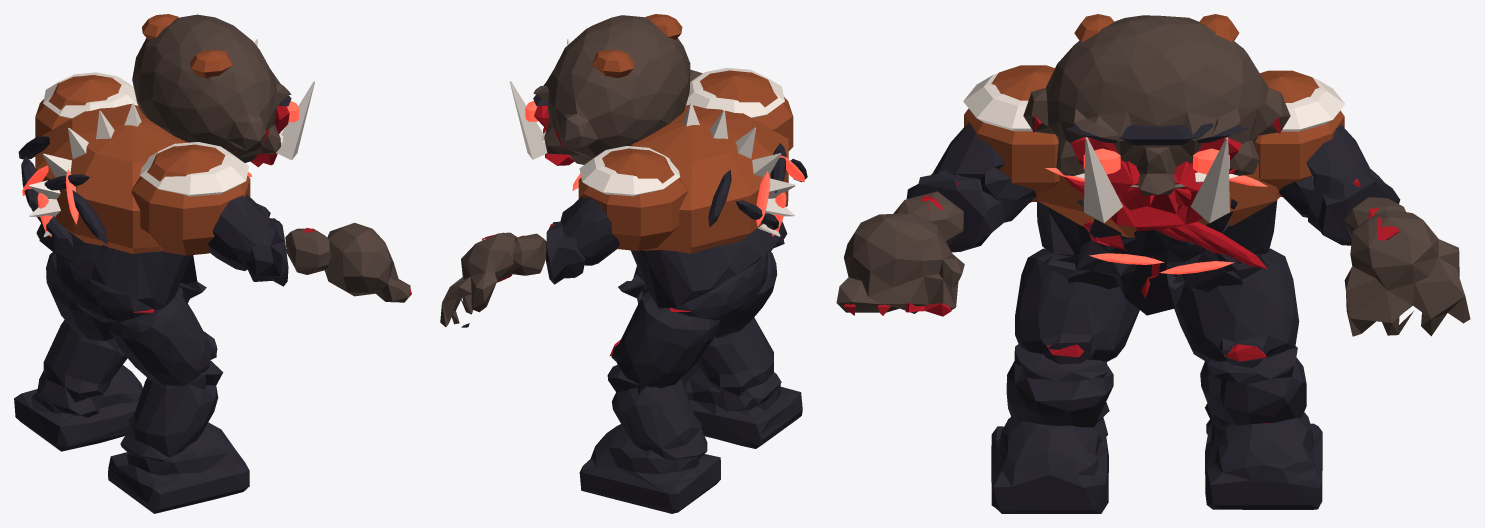
The picture shows the model from 3 angles, left to right: view 1: azimuth 30°, elevation 25°; view 2: azimuth 150°, elevation 25°; view 3: azimuth 270°, elevation 25°; orthographic projection. The views are drawn at different scales.
Parts seen in each view (by area): view 1: torso__mega, head__mega, footR__mega, legR__mega, shinR__mega, shinL__mega, footL__mega, handR__mega, foreArmR__mega, armR__mega, hip__mega, legL__mega; view 2: torso__mega, head__mega, footL__mega, legL__mega, shinL__mega, shinR__mega, footR__mega, handL__mega, foreArmL__mega, hip__mega, armL__mega, legR__mega; view 3: head__mega, torso__mega, handL__mega, footR__mega, handR__mega, footL__mega, legL__mega, legR__mega, shinR__mega, shinL__mega, foreArmR__mega, foreArmL__mega (+2 smaller).
Part boxes in pixels (left/top/right/bottom): torso__mega: left=18, top=72, right=251, bottom=309; head__mega: left=132, top=14, right=314, bottom=167; footR__mega: left=108, top=422, right=249, bottom=513; legR__mega: left=107, top=291, right=217, bottom=386; shinR__mega: left=120, top=360, right=223, bottom=461; shinL__mega: left=39, top=319, right=127, bottom=417; footL__mega: left=14, top=365, right=142, bottom=451; handR__mega: left=324, top=222, right=411, bottom=302; foreArmR__mega: left=245, top=218, right=330, bottom=286; armR__mega: left=207, top=194, right=270, bottom=270; hip__mega: left=56, top=254, right=152, bottom=323; legL__mega: left=46, top=252, right=113, bottom=340; torso__mega: left=572, top=68, right=807, bottom=308; head__mega: left=509, top=14, right=690, bottom=165; footL__mega: left=579, top=424, right=720, bottom=513; legL__mega: left=609, top=292, right=720, bottom=394; shinL__mega: left=607, top=365, right=707, bottom=460; shinR__mega: left=697, top=317, right=781, bottom=411; footR__mega: left=682, top=363, right=802, bottom=448; handL__mega: left=440, top=232, right=517, bottom=327; foreArmL__mega: left=510, top=221, right=585, bottom=284; hip__mega: left=672, top=253, right=767, bottom=321; armL__mega: left=560, top=196, right=619, bottom=265; legR__mega: left=715, top=252, right=777, bottom=337; head__mega: left=1023, top=14, right=1290, bottom=231; torso__mega: left=963, top=65, right=1345, bottom=315; handL__mega: left=1344, top=210, right=1470, bottom=336; footR__mega: left=991, top=416, right=1108, bottom=513; handR__mega: left=836, top=213, right=964, bottom=316; footL__mega: left=1205, top=412, right=1322, bottom=509; legL__mega: left=1174, top=248, right=1299, bottom=367; legR__mega: left=1015, top=248, right=1139, bottom=364; shinR__mega: left=1006, top=344, right=1113, bottom=442; shinL__mega: left=1200, top=346, right=1306, bottom=441; foreArmR__mega: left=893, top=170, right=1004, bottom=252; foreArmL__mega: left=1307, top=169, right=1405, bottom=245.
Size of the model in its own units: 1.57 by 2.39 by 2.71.
